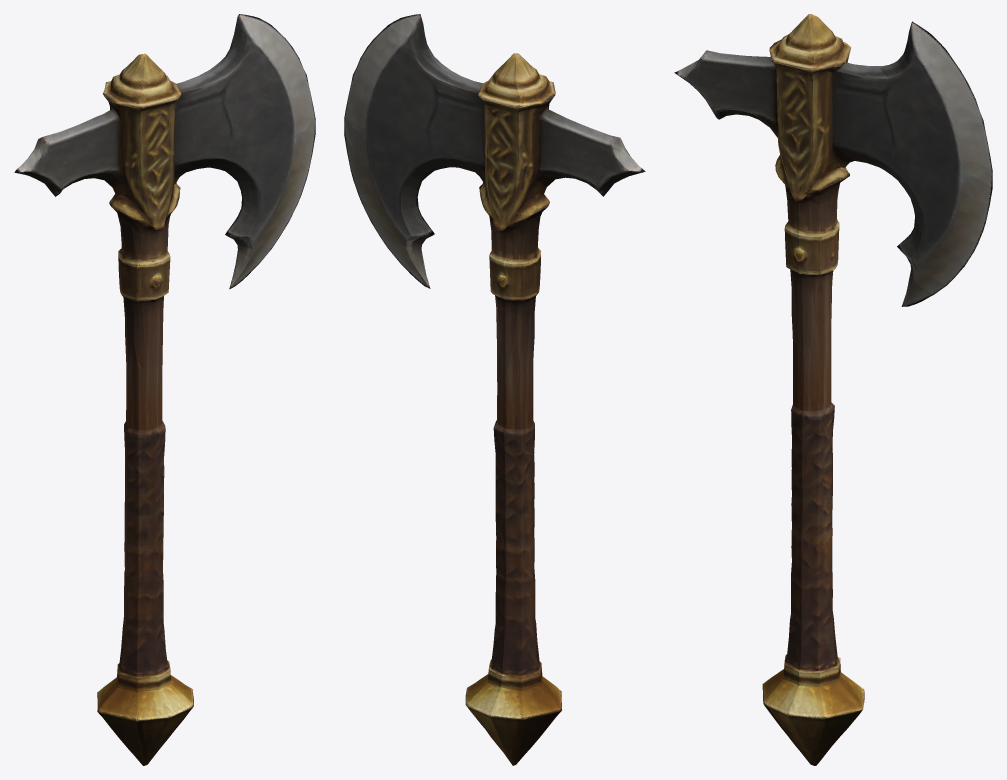
File: NordicAxe.fbx
3 renders of one model, left to right at view 1: azimuth 30°, elevation 25°; view 2: azimuth 150°, elevation 25°; view 3: azimuth 330°, elevation 25°, orthographic. The views are drawn at different scales.
Visible parts, largest first — view 1: world; view 2: world; view 3: world.
Part boxes in pixels (x1,y1,x2,y2): world: [14, 14, 315, 765]; world: [344, 14, 645, 765]; world: [674, 14, 992, 765].
Bounding box in the file's own units: 42.99 × 99.35 × 12.01.
Materials: 1 (1 with a texture image).
